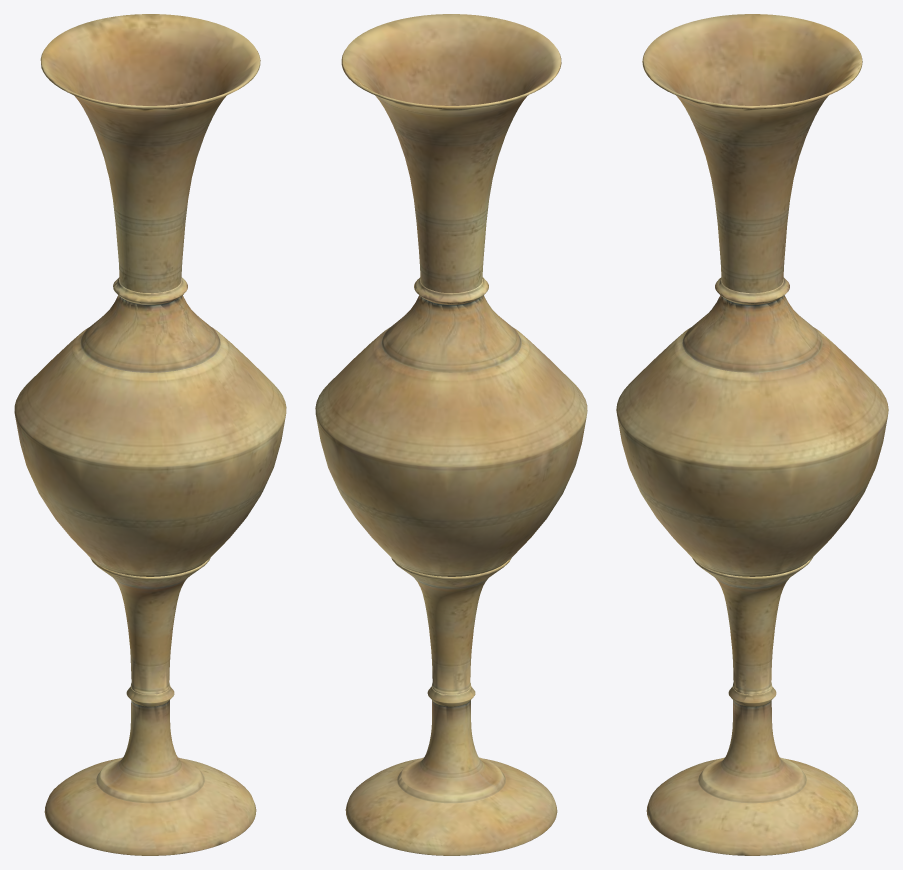
The model's file is brass_vase_01.glb.
3 views of the same model, side by side, from view 1: azimuth 30°, elevation 25°; view 2: azimuth 150°, elevation 25°; view 3: azimuth 270°, elevation 25° (orthographic).
Visible parts, largest first — view 1: brass_vase_01; view 2: brass_vase_01; view 3: brass_vase_01.
Boxes of the visible parts, x1,y1,x2,y2 form: brass_vase_01: (14, 14, 286, 855); brass_vase_01: (315, 14, 587, 855); brass_vase_01: (616, 14, 888, 855).
Bounding box in the file's own units: 0.2273 × 0.6925 × 0.2273.
1 material, 1 textured.
